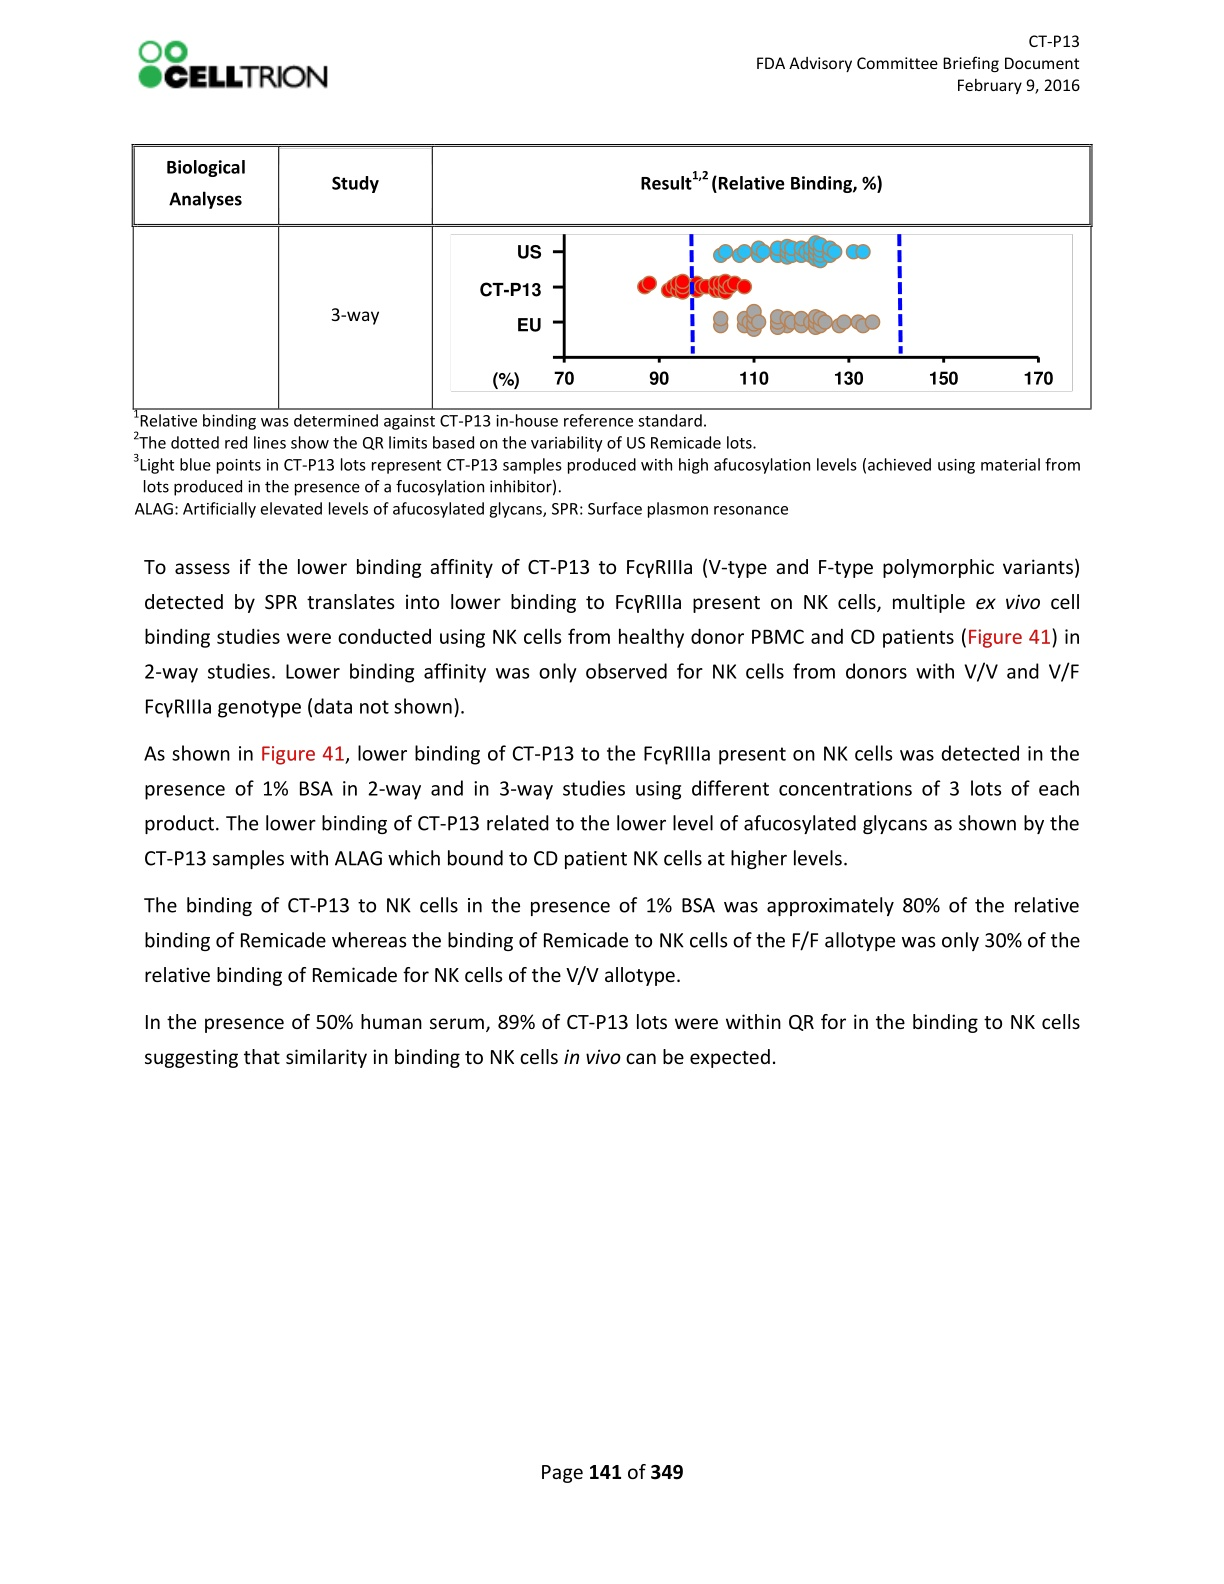full_lined: (130, 141, 1092, 411)
